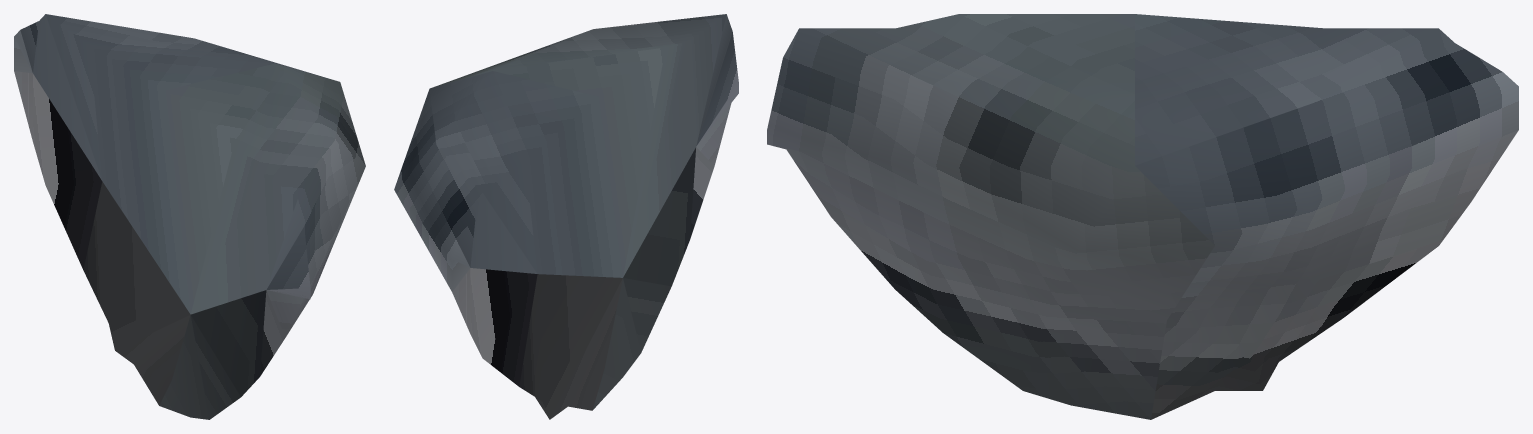
File: z20-167787-405224-h1-yup-uvflip-v3-world.glb
3 views of the same model, side by side, from view 1: azimuth 30°, elevation 25°; view 2: azimuth 150°, elevation 25°; view 3: azimuth 270°, elevation 25° (orthographic). The views are drawn at different scales.
Bounding box in the file's own units: 0.64 × 1.12 × 1.88.
Materials: 1 (1 with a texture image).
